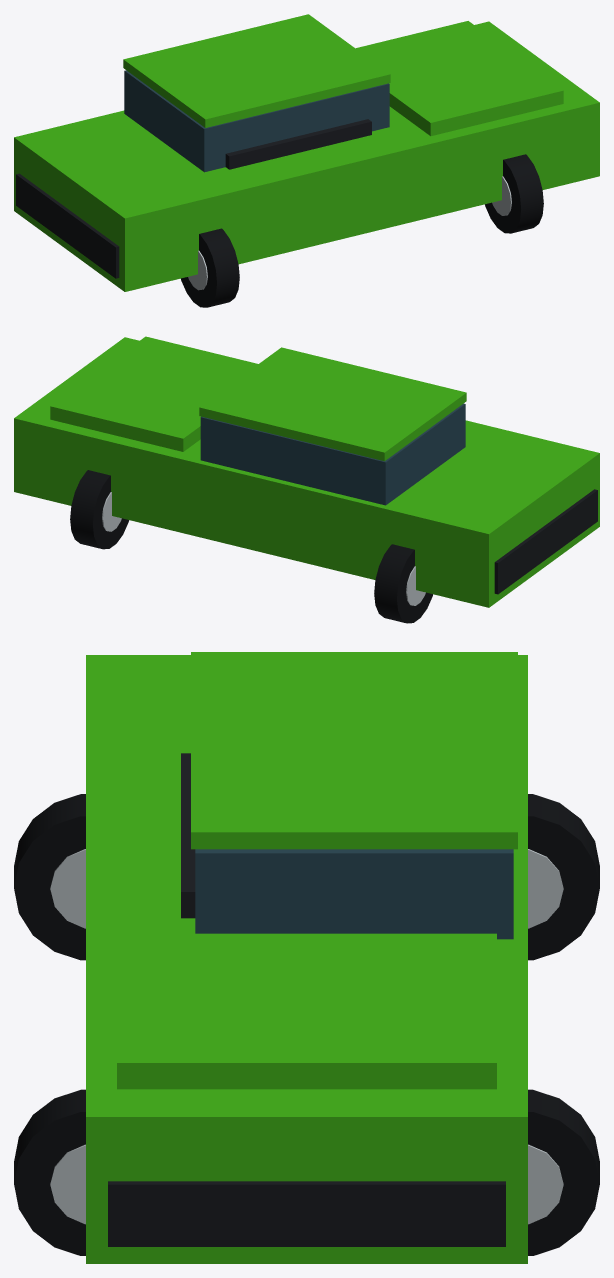
The model's file is chevy_malibu.glb.
3 renders of one model, top to bottom at view 1: azimuth 30°, elevation 25°; view 2: azimuth 150°, elevation 25°; view 3: azimuth 270°, elevation 25°, orthographic. The views are drawn at different scales.
Parts seen in each view (by area): view 1: body, roof, hood, cabin, rear_bumper, front_right_wheel, rear_right_wheel, interior; view 2: body, roof, hood, cabin, rear_bumper, front_left_wheel, rear_left_wheel; view 3: body, roof, hood, cabin, front_bumper, rear_left_wheel, rear_right_wheel, front_left_wheel, front_right_wheel, interior.
Part boxes in pixels (bbox=[...]): body: bbox=[14, 21, 599, 291]; roof: bbox=[123, 14, 390, 127]; hood: bbox=[356, 21, 563, 136]; cabin: bbox=[124, 70, 389, 172]; rear_bumper: bbox=[16, 173, 119, 278]; front_right_wheel: bbox=[485, 154, 543, 233]; rear_right_wheel: bbox=[181, 228, 239, 307]; interior: bbox=[225, 119, 371, 169]; body: bbox=[14, 337, 599, 607]; roof: bbox=[199, 347, 466, 461]; hood: bbox=[50, 336, 258, 451]; cabin: bbox=[200, 403, 465, 505]; rear_bumper: bbox=[494, 489, 597, 594]; front_left_wheel: bbox=[70, 470, 128, 549]; rear_left_wheel: bbox=[374, 544, 432, 623]; body: bbox=[86, 655, 527, 1263]; roof: bbox=[191, 652, 517, 849]; hood: bbox=[117, 933, 496, 1089]; cabin: bbox=[195, 849, 513, 939]; front_bumper: bbox=[108, 1181, 505, 1246]; rear_left_wheel: bbox=[528, 794, 599, 960]; rear_right_wheel: bbox=[14, 794, 85, 960]; front_left_wheel: bbox=[528, 1089, 599, 1255]; front_right_wheel: bbox=[14, 1089, 85, 1255]; interior: bbox=[181, 753, 195, 918].
Size of the model in its own units: 4.67 by 1.48 by 2.47.
